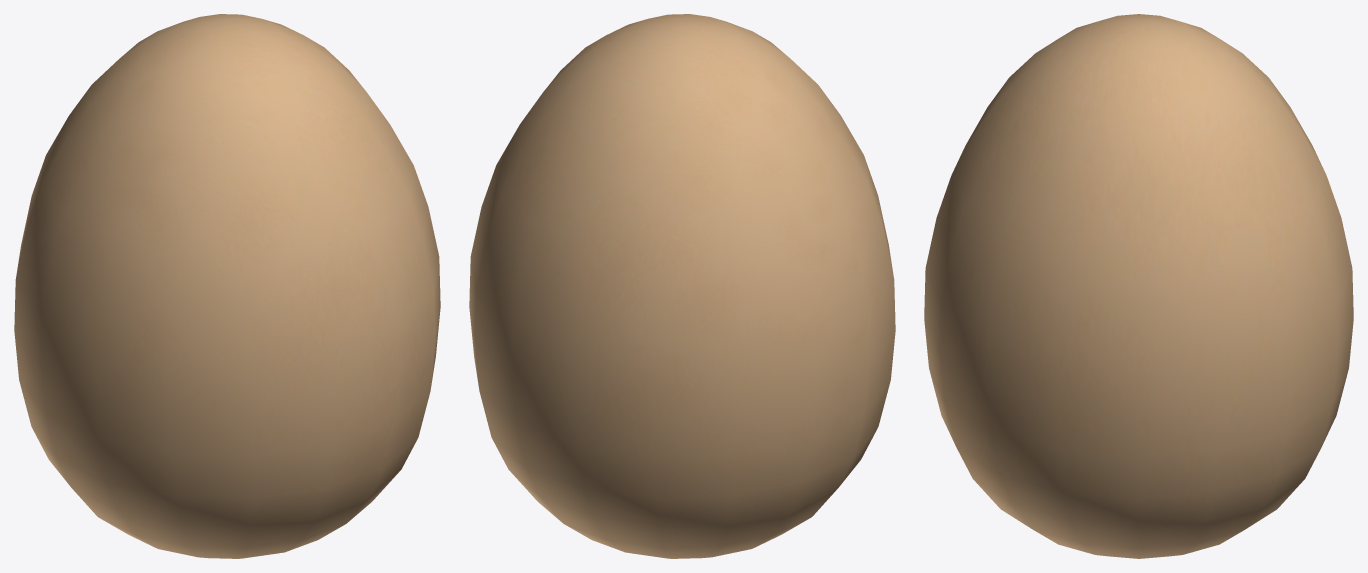
File: egg.glb
The picture shows the model from 3 angles, left to right: view 1: azimuth 30°, elevation 25°; view 2: azimuth 150°, elevation 25°; view 3: azimuth 270°, elevation 25°; orthographic projection.
Visible parts, largest first — view 1: C_Egg.smd_0; view 2: C_Egg.smd_0; view 3: C_Egg.smd_0.
Part boxes in pixels (<box>): C_Egg.smd_0: <box>14,14,440,558</box>; C_Egg.smd_0: <box>469,14,895,558</box>; C_Egg.smd_0: <box>924,14,1353,558</box>.
Size of the model in its own units: 0.0435 by 0.0572 by 0.0435.
Materials: 1 (1 with a texture image).
